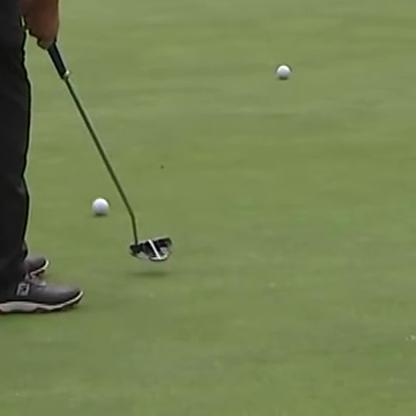golfball: (90, 193, 109, 215)
